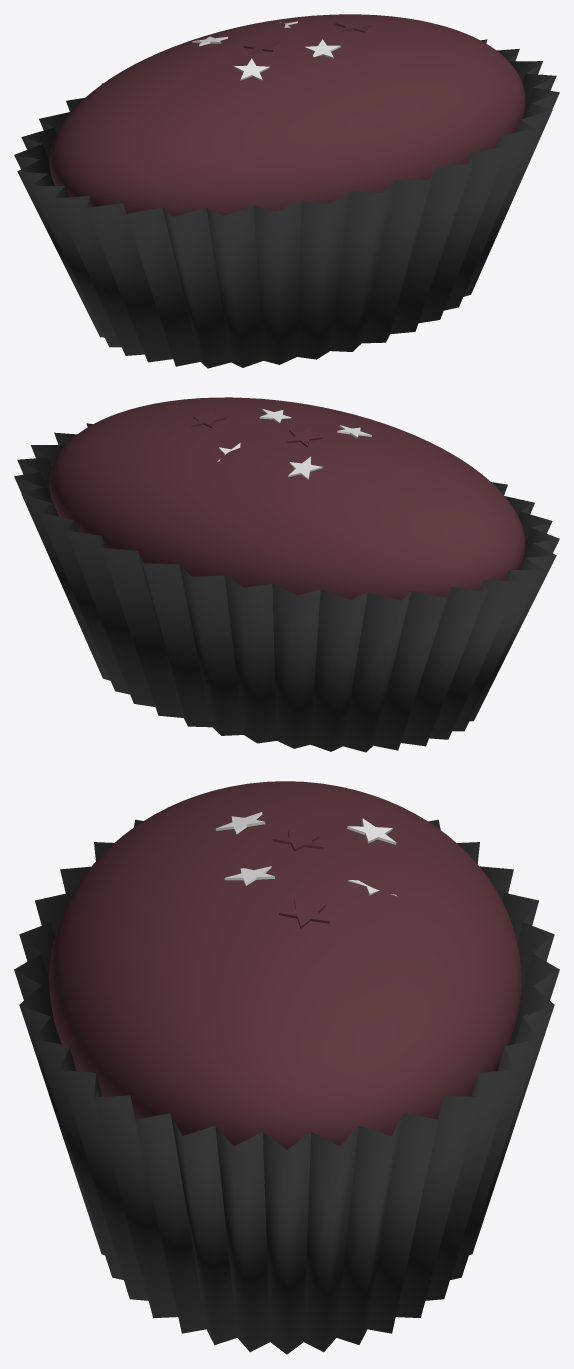
Rendered from almondlondon.fbx.
3 views of the same model, one above another, from view 1: azimuth 30°, elevation 25°; view 2: azimuth 150°, elevation 25°; view 3: azimuth 270°, elevation 25° (orthographic). The views are drawn at different scales.
Visible parts, largest first — view 1: Circle; view 2: Circle; view 3: Circle.
Boxes of the visible parts, x1,y1,x2,y2 form: Circle: (14,14,559,368); Circle: (14,397,559,752); Circle: (14,781,559,1354).
Size of the model in its own units: 313 by 153 by 200.
